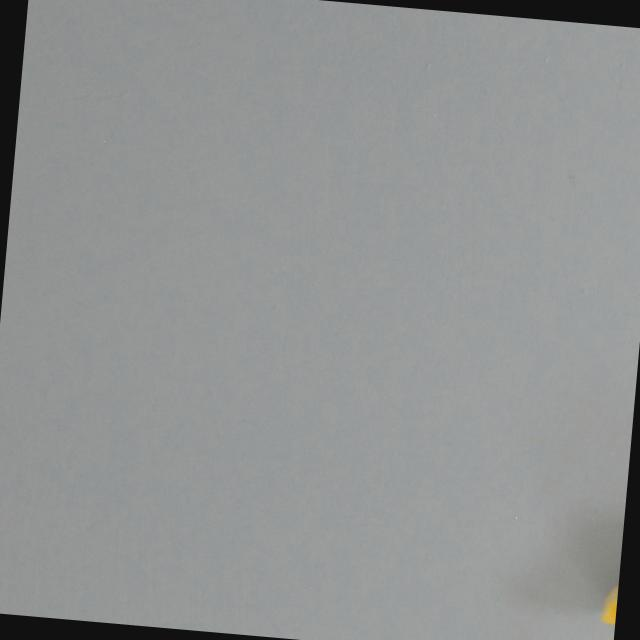dañado: (592, 505, 625, 628)
